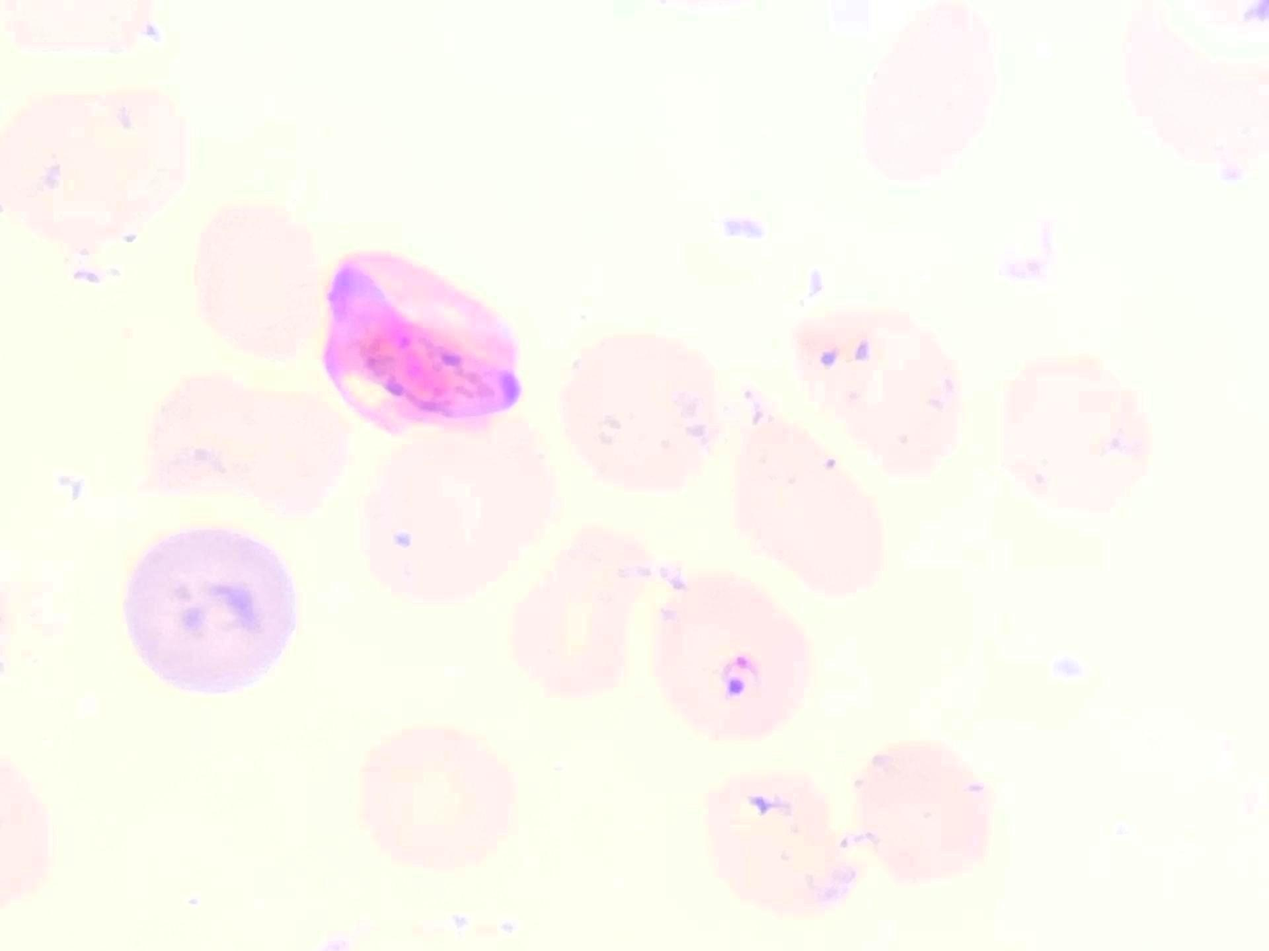Infected: (314, 243, 524, 441), (651, 567, 818, 738)
Uninfected: (783, 299, 962, 477), (727, 408, 889, 600), (362, 435, 553, 597), (0, 85, 187, 248), (147, 374, 348, 515), (124, 524, 297, 686), (558, 336, 726, 497), (995, 352, 1152, 514), (504, 532, 658, 696), (856, 5, 996, 181), (355, 727, 516, 869), (709, 770, 857, 917), (190, 199, 318, 362), (849, 742, 985, 885)
